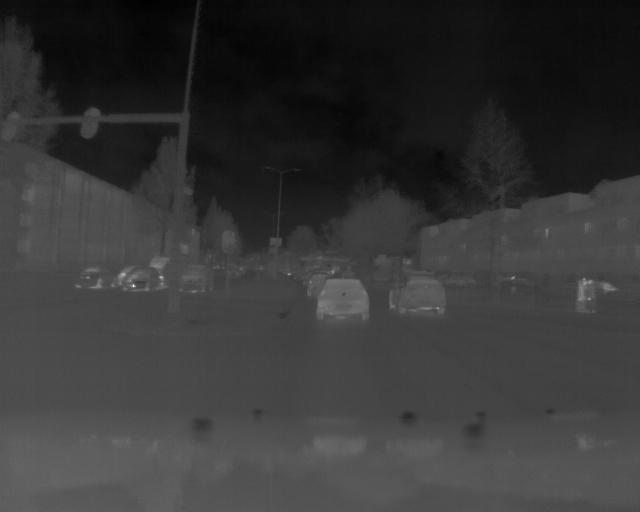car: (387, 275, 450, 315), (314, 277, 371, 321), (120, 264, 165, 291), (177, 264, 216, 295), (73, 265, 119, 289)
